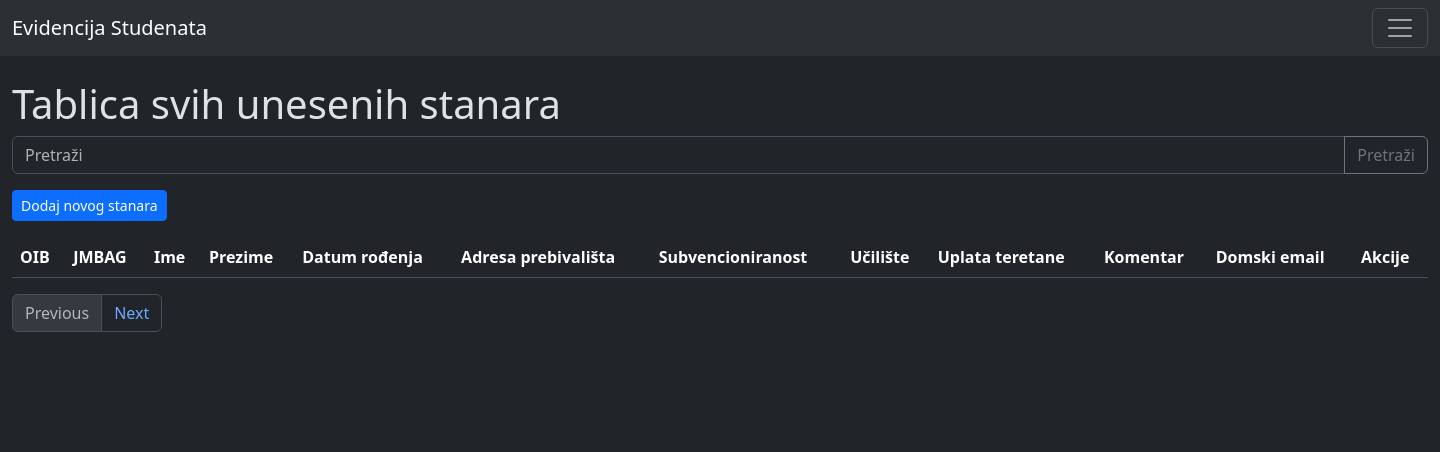
Test: PopisUnesenihStanaraPage › search functionality filters data correctly
In the field with placeholder "Pretraži": (679, 155) [12, 136, 1345, 174], type "John"
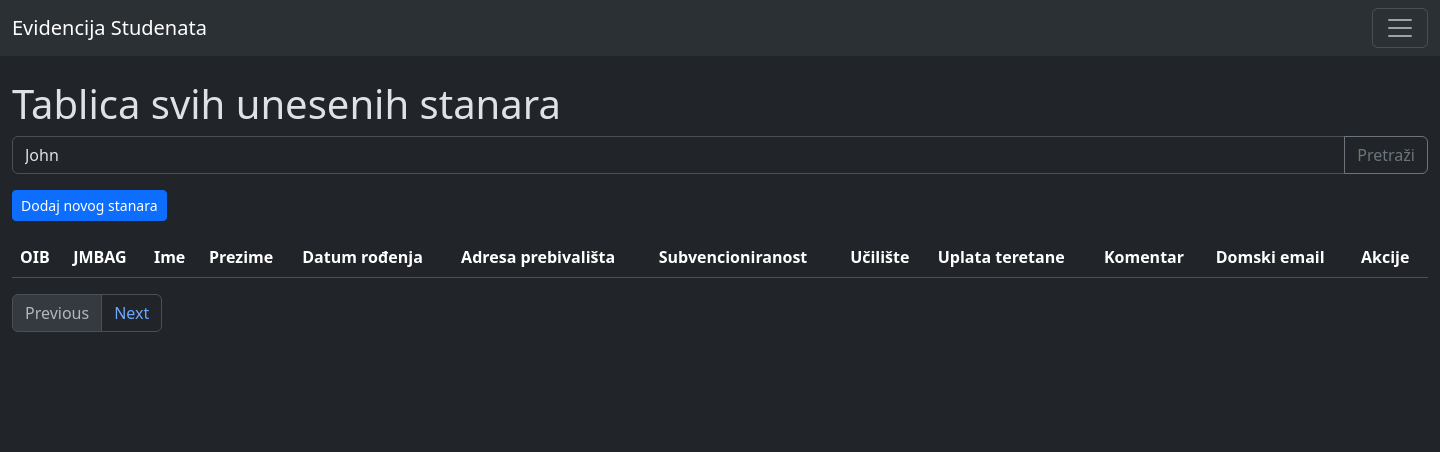
Click the button "Pretraži": (1386, 155) [1344, 136, 1428, 174]
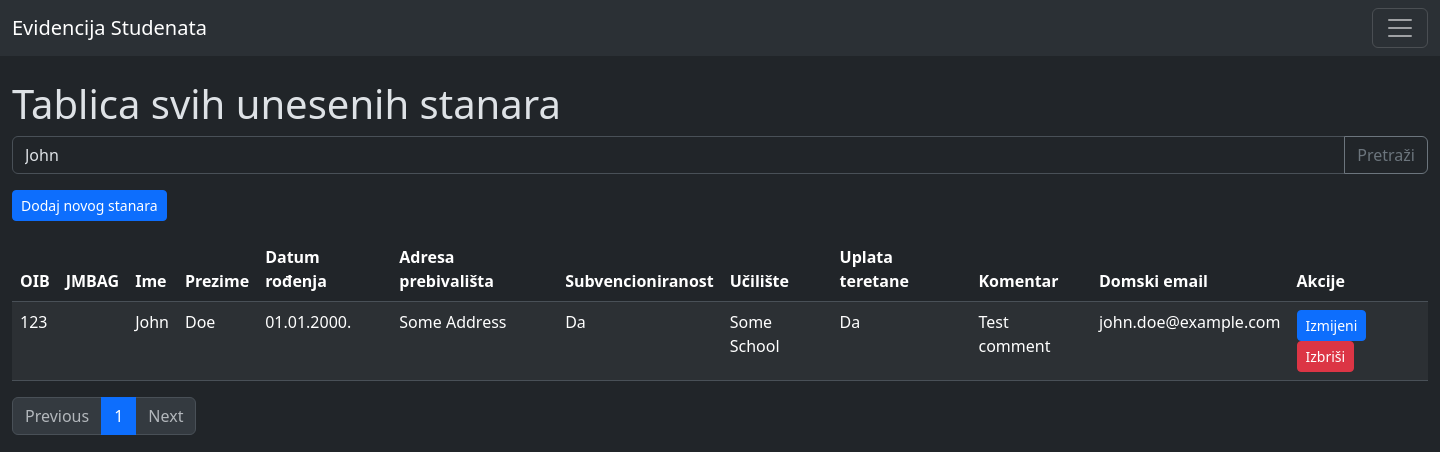
Expected: the text "John" is shown, [127, 302, 177, 380]
